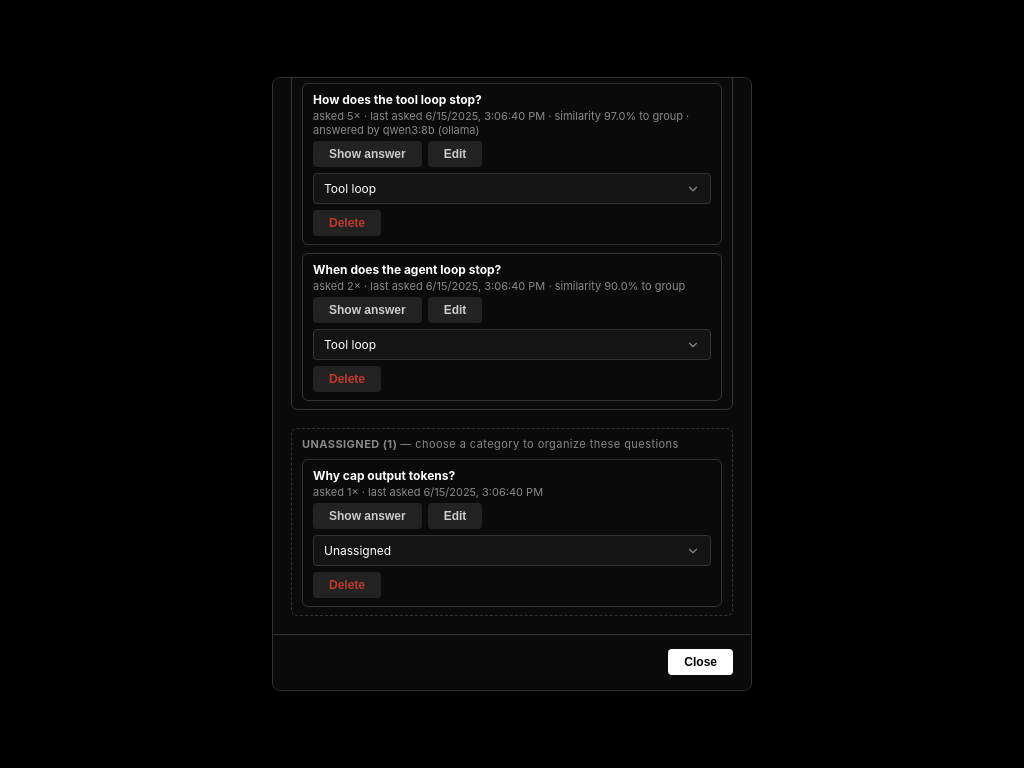
Test: FaqPanel › edits a question/answer pair through faq_update_entry
This screenshot has width=1024, height=768.
(page scrolled)
Expected: the text "Why cap output tokens?" is shown once, [313, 468, 455, 483]
Click the button "Edit" below "Why cap output tokens?": (455, 516) [428, 503, 482, 529]
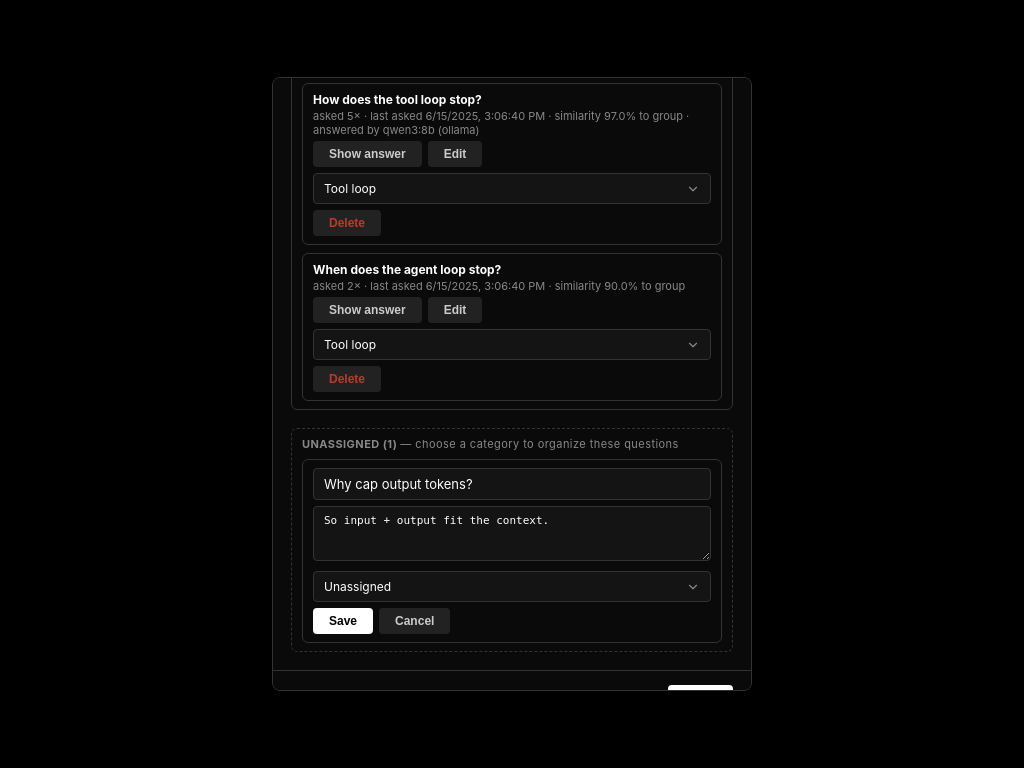
Replace the text in the field named "Edit question" with "Why cap output?": (512, 484) [313, 468, 711, 500]
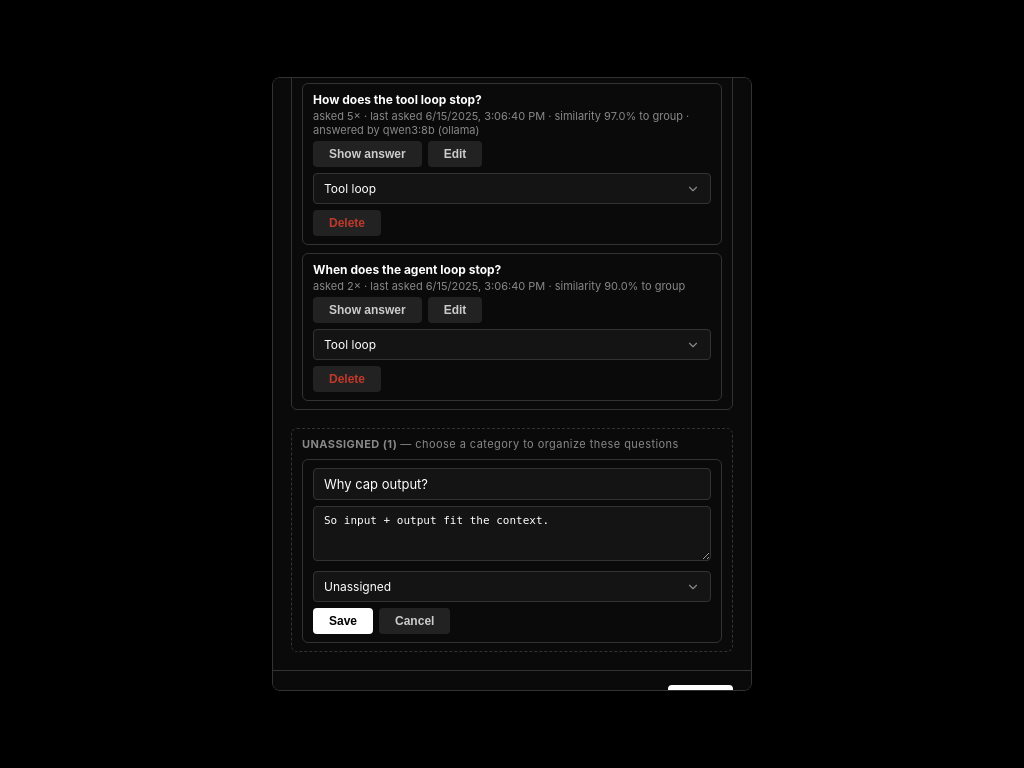
Replace the text in the text box named "Edit answer" with "So the context fits.": (512, 534) [313, 506, 711, 561]
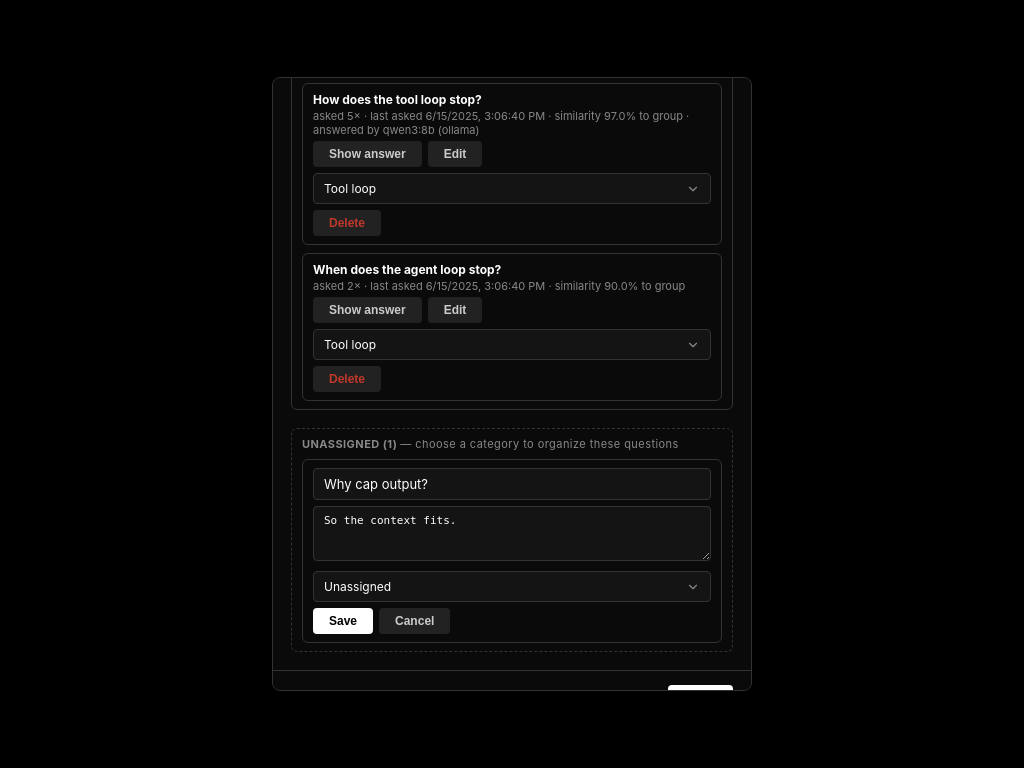
Click the button "Save": (343, 621) [313, 608, 373, 634]
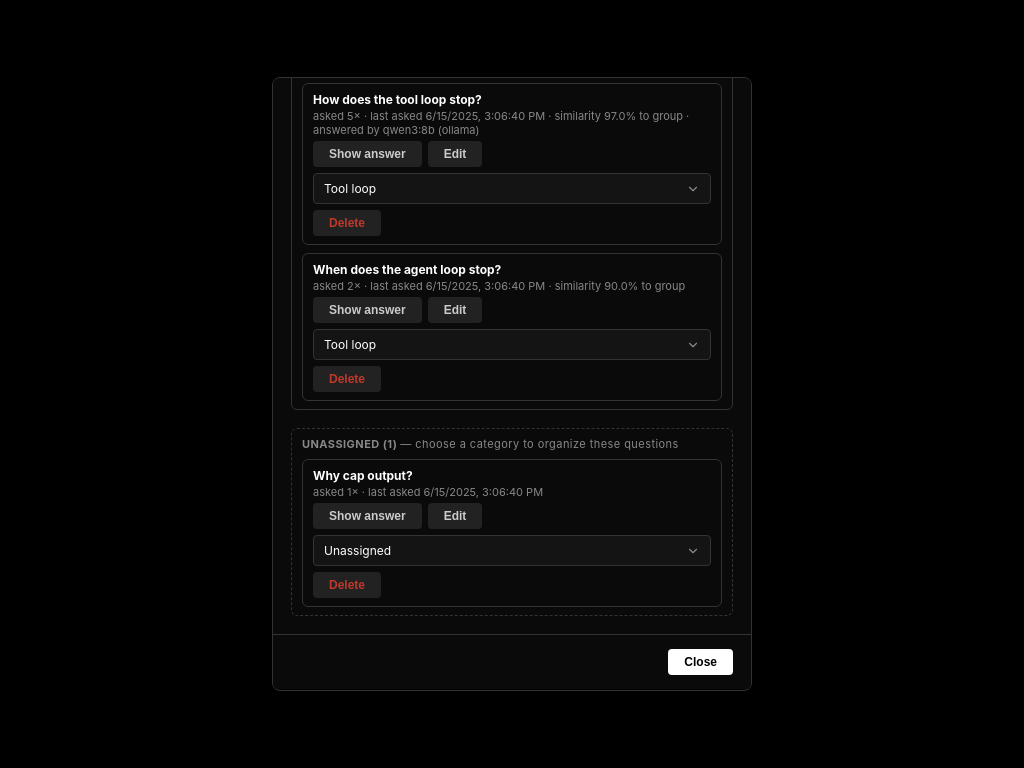
Expected: the text "Why cap output?" is shown, [313, 468, 413, 483]
